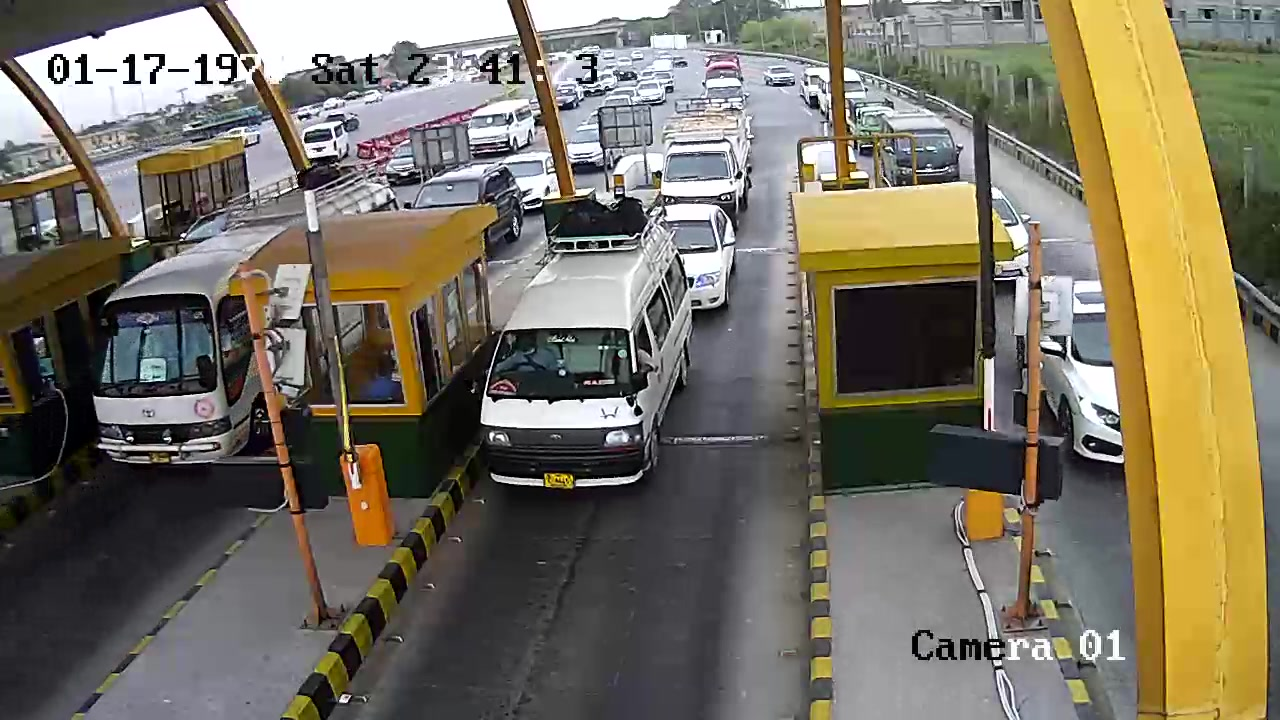F3: (468, 197, 700, 514)
